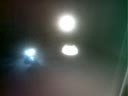window: (0, 3, 34, 96), (42, 81, 70, 96), (42, 44, 65, 59), (94, 91, 107, 96), (91, 62, 97, 69)
